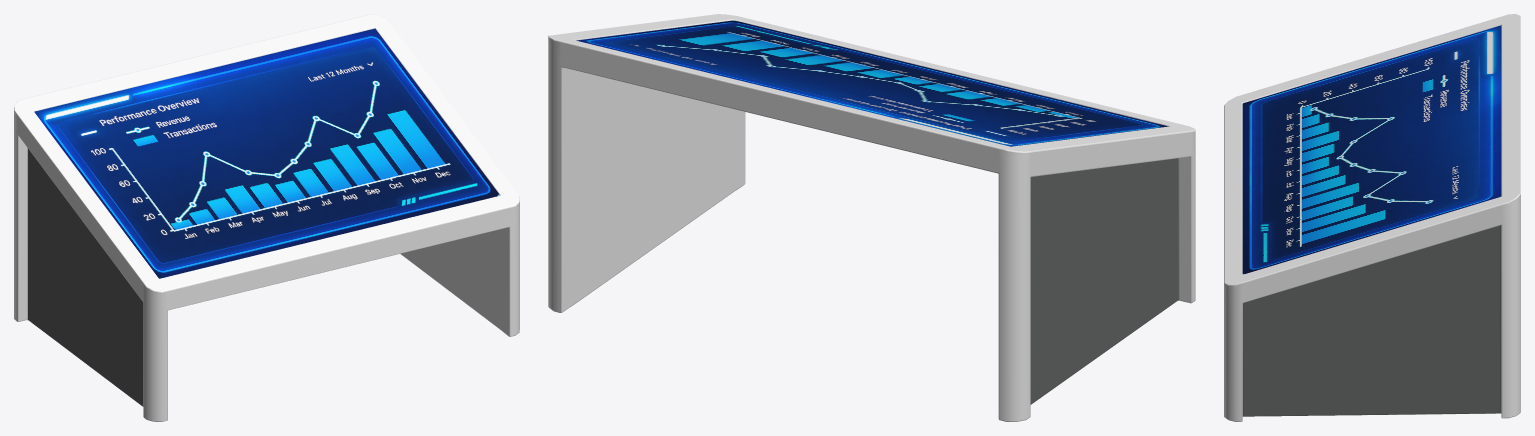
The model's file is ControlConsole.fbx.
3 renders of one model, left to right at view 1: azimuth 30°, elevation 25°; view 2: azimuth 150°, elevation 25°; view 3: azimuth 270°, elevation 25°, orthographic. The views are drawn at different scales.
Parts seen in each view (by area): view 1: ControlConsoleScreen, ControlConsole; view 2: ControlConsole, ControlConsoleScreen; view 3: ControlConsole, ControlConsoleScreen.
Part boxes in pixels (x1,y1,x2,y2): ControlConsoleScreen: (34, 28, 499, 278); ControlConsole: (14, 14, 519, 421); ControlConsole: (548, 14, 1195, 421); ControlConsoleScreen: (576, 20, 1168, 146); ControlConsole: (1224, 14, 1520, 421); ControlConsoleScreen: (1242, 25, 1501, 274).
Size of the model in its own units: 90 by 49.93 by 60.
Materials: 2 (2 with a texture image).
